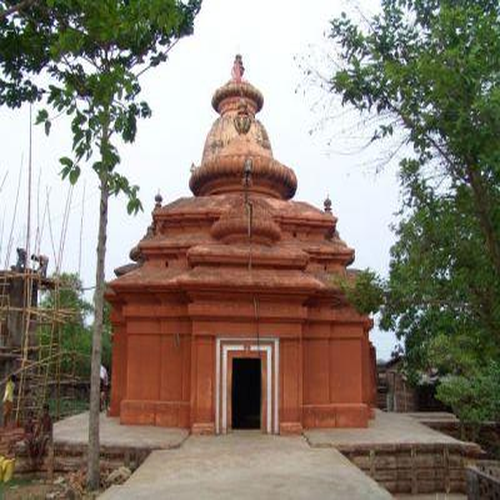Temple: (107, 52, 383, 428)
